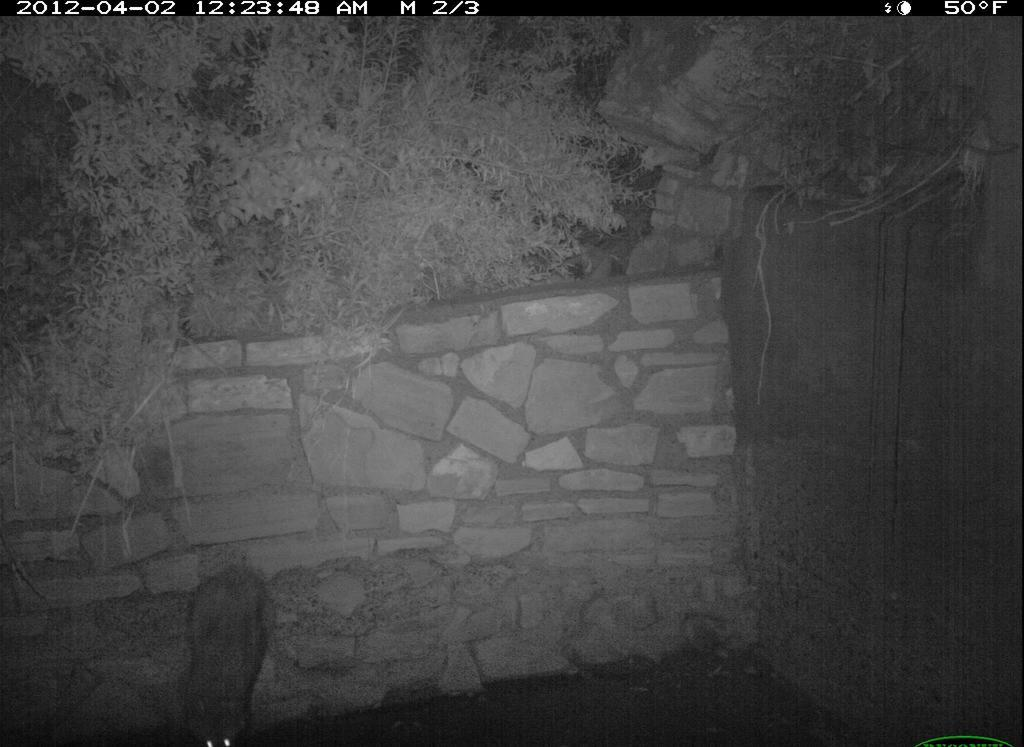raccoon: (163, 553, 290, 745)
